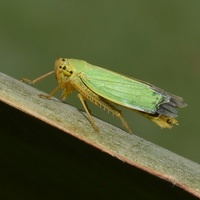insect: (21, 58, 186, 133)
